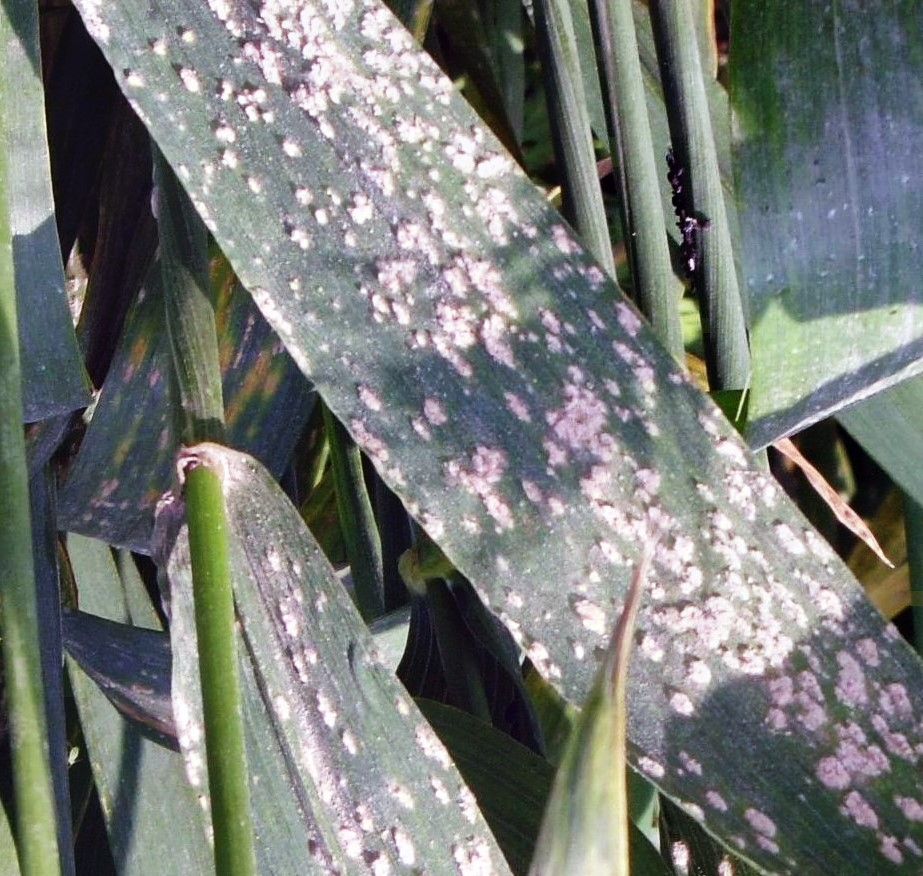Powdery Mildew: (233, 21, 904, 799)
